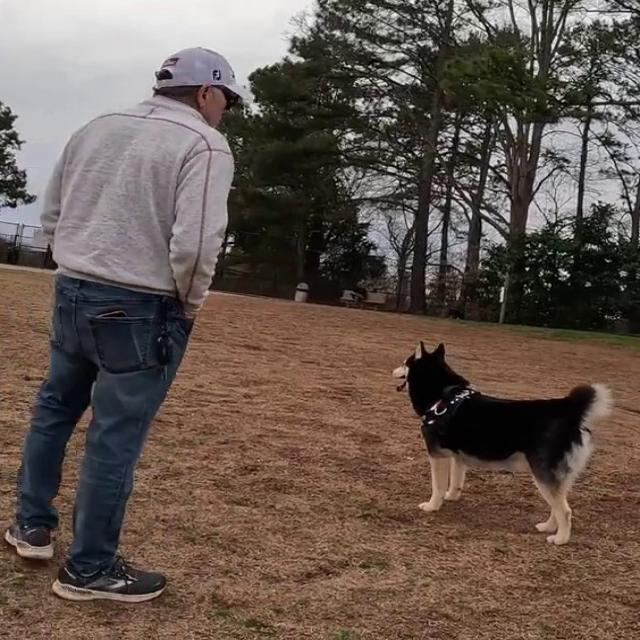Unleashed_Dog: (87, 276, 611, 546)
